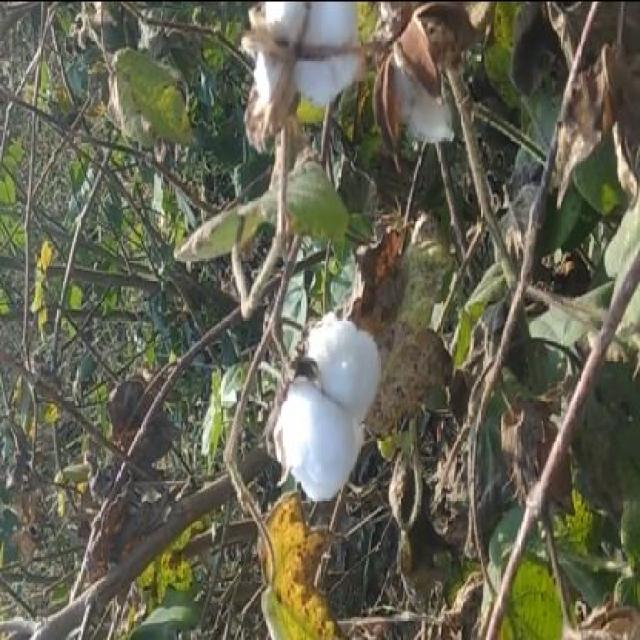cotton_ready: (242, 294, 396, 509)
